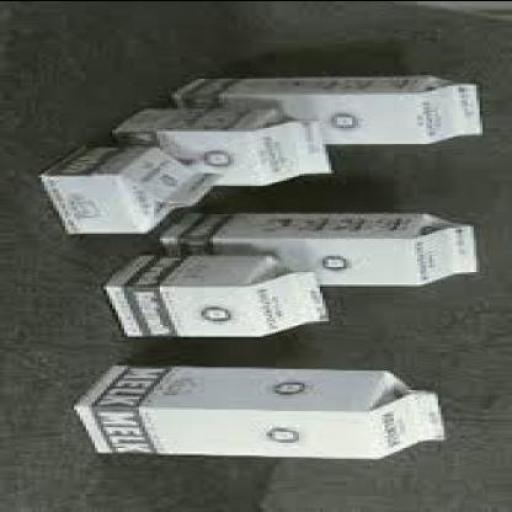cardboard: (74, 364, 453, 450), (160, 209, 485, 283), (175, 72, 485, 142), (100, 252, 334, 334), (109, 104, 341, 186), (39, 142, 222, 231)
